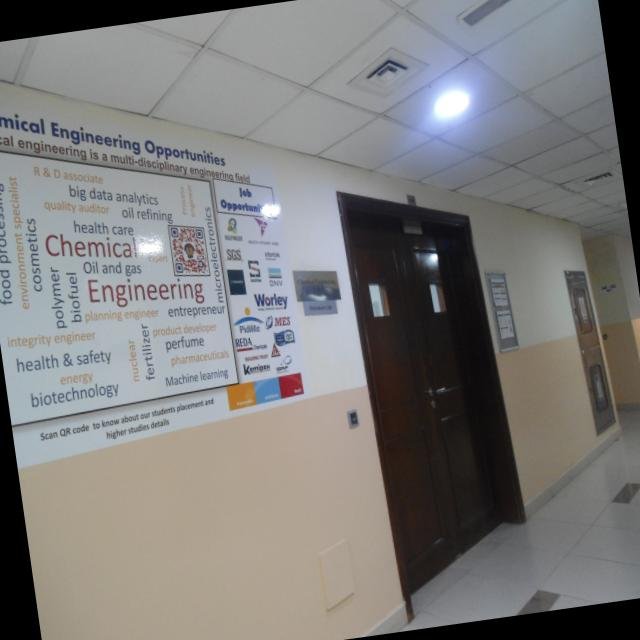door: (338, 193, 526, 619)
path: (403, 410, 640, 630)
sign: (0, 87, 310, 468), (293, 270, 341, 316), (601, 283, 617, 293)
